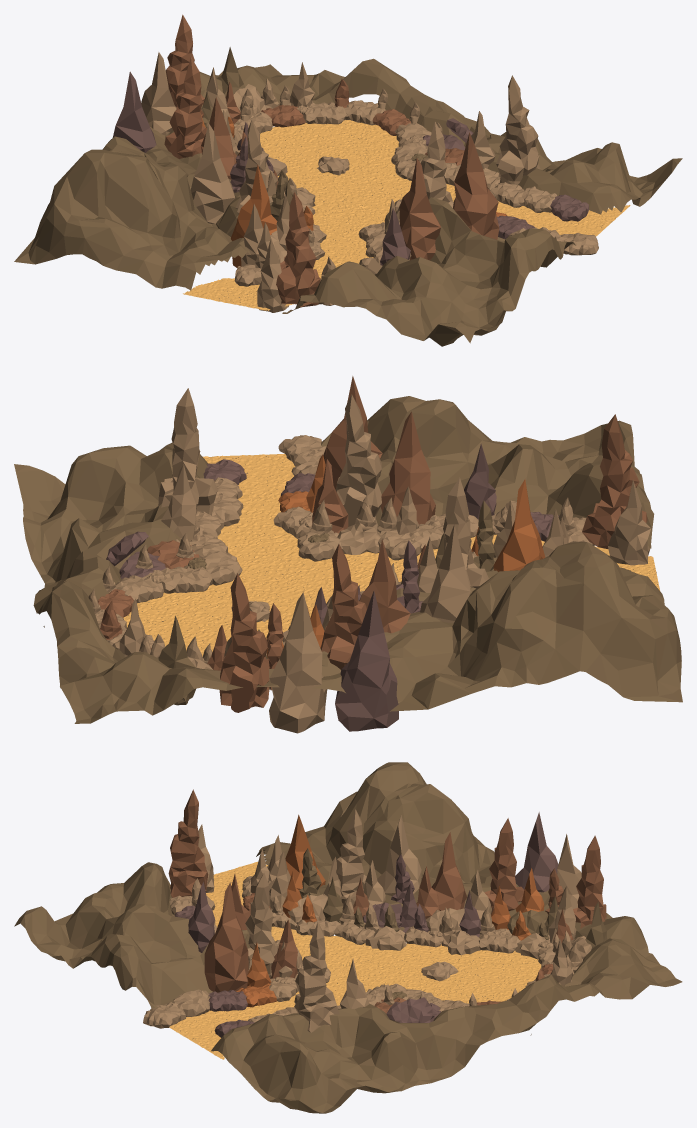
Rendered from карта3 доделка.fbx.
3 views of the same model, one above another, from view 1: azimuth 30°, elevation 25°; view 2: azimuth 150°, elevation 25°; view 3: azimuth 270°, elevation 25° (orthographic). The views are drawn at different scales.
Visible parts, largest first — view 1: Плоскость.004, Плоскость.005, Cube.627, высокий камень.359, Cube.630, высокий камень.358, высокий камень.348, Cube.599, высокий камень.349, высокий камень.345, Cube.629, высокий камень.343 (+21 smaller); view 2: Плоскость.004, Плоскость.005, высокий камень.349, высокий камень.345, Cube.600, Cube.627, Cube.629, Cube.630, высокий камень.358, Cube.599, высокий камень.348, высокий камень.343 (+30 smaller); view 3: Плоскость.004, Плоскость.005, высокий камень.359, Cube.630, Cube.627, Cube.599, Cube.629, Cube.600, Cube.598, высокий камень.349, высокий камень.344, высокий камень.348 (+30 smaller).
Boxes of the visible parts, x1=… form: Плоскость.004: x1=14, y1=58, x2=682, y2=346; Плоскость.005: x1=183, y1=120, x2=630, y2=310; Cube.627: x1=276, y1=192, x2=320, y2=307; высокий камень.359: x1=453, y1=132, x2=499, y2=239; Cube.630: x1=496, y1=75, x2=540, y2=184; высокий камень.358: x1=399, y1=158, x2=440, y2=260; высокий камень.348: x1=191, y1=122, x2=235, y2=223; Cube.599: x1=164, y1=57, x2=206, y2=158; высокий камень.349: x1=112, y1=71, x2=156, y2=152; высокий камень.345: x1=141, y1=52, x2=176, y2=135; Cube.629: x1=420, y1=122, x2=453, y2=207; высокий камень.343: x1=231, y1=164, x2=277, y2=267; Плоскость.004: x1=14, y1=396, x2=682, y2=723; Плоскость.005: x1=123, y1=454, x2=659, y2=656; высокий камень.349: x1=335, y1=590, x2=398, y2=731; высокий камень.345: x1=269, y1=592, x2=327, y2=733; Cube.600: x1=219, y1=573, x2=269, y2=712; Cube.627: x1=582, y1=414, x2=647, y2=548; Cube.629: x1=335, y1=394, x2=381, y2=526; Cube.630: x1=158, y1=388, x2=217, y2=518; высокий камень.358: x1=380, y1=411, x2=435, y2=524; Cube.599: x1=320, y1=544, x2=367, y2=669; высокий камень.348: x1=420, y1=524, x2=470, y2=623; высокий камень.343: x1=493, y1=479, x2=545, y2=571; Плоскость.004: x1=14, y1=762, x2=682, y2=1113; Плоскость.005: x1=169, y1=861, x2=541, y2=1059; высокий камень.359: x1=204, y1=882, x2=248, y2=992; Cube.630: x1=294, y1=922, x2=339, y2=1032; Cube.627: x1=168, y1=789, x2=208, y2=897; Cube.599: x1=484, y1=818, x2=524, y2=914; Cube.629: x1=245, y1=872, x2=275, y2=977; Cube.600: x1=573, y1=835, x2=606, y2=928; Cube.598: x1=336, y1=809, x2=366, y2=905; высокий камень.349: x1=515, y1=812, x2=558, y2=892; высокий камень.344: x1=431, y1=832, x2=467, y2=910; высокий камень.348: x1=377, y1=815, x2=421, y2=895.
Bounding box in the file's own units: 38164 × 8451 × 38015.
